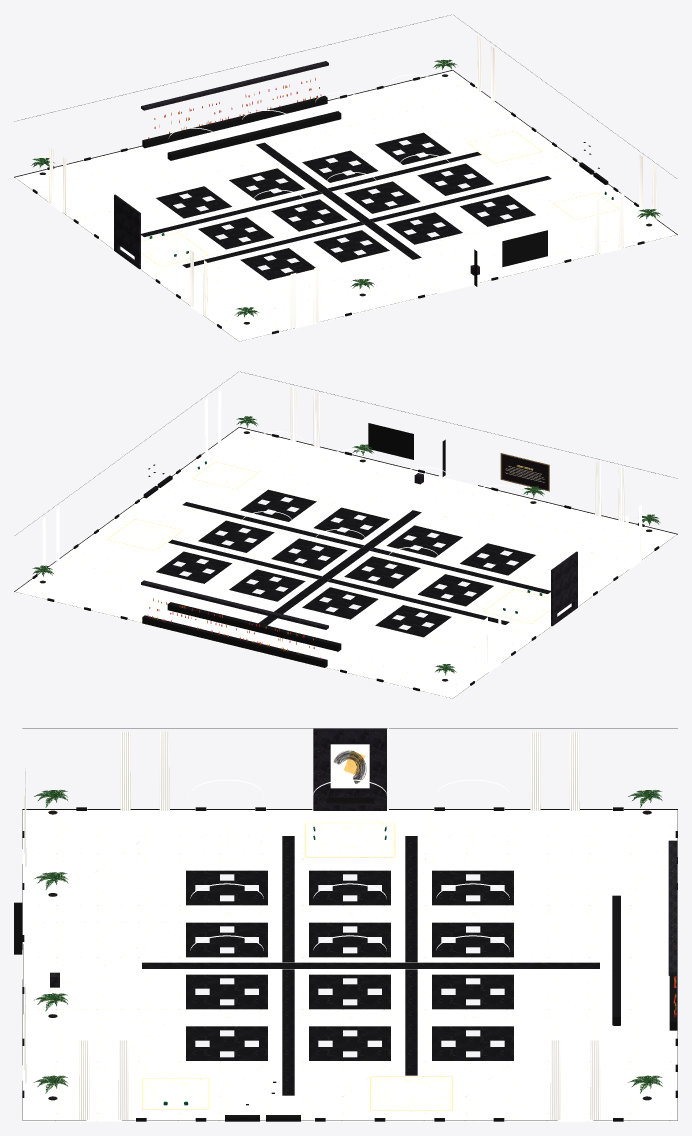
The model's file is tb_lounge_p4.glb.
The picture shows the model from 3 angles, top to bottom: view 1: azimuth 30°, elevation 25°; view 2: azimuth 150°, elevation 25°; view 3: azimuth 270°, elevation 25°; orthographic projection. The views are drawn at different scales.
Visible parts, largest first — view 1: tb_lounge_p4; view 2: tb_lounge_p4; view 3: tb_lounge_p4.
Part boxes in pixels (bbox=[...]): tb_lounge_p4: bbox=[14, 14, 677, 342]; tb_lounge_p4: bbox=[14, 371, 677, 699]; tb_lounge_p4: bbox=[14, 728, 677, 1121].
Bounding box in the file's own units: 72.25 × 10 × 64.8.
Materials: 14 (8 with a texture image).
